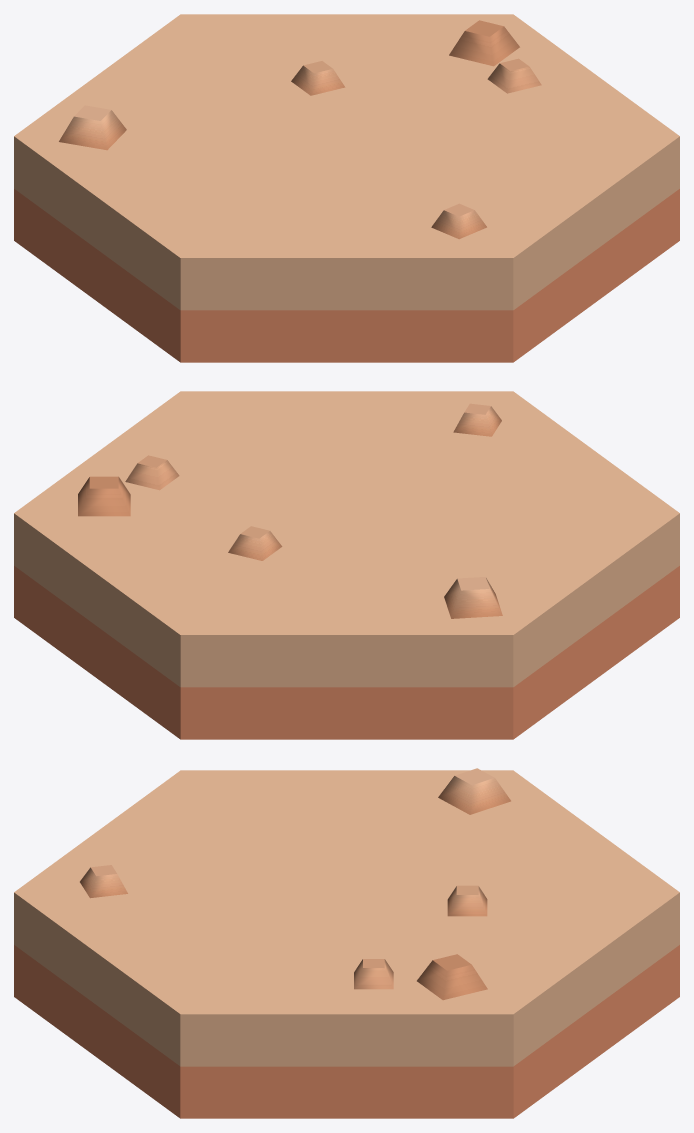
Rendered from sand-rocks.glb.
3 views of the same model, one above another, from view 1: azimuth 30°, elevation 25°; view 2: azimuth 150°, elevation 25°; view 3: azimuth 270°, elevation 25° (orthographic).
Parts seen in each view (by area): view 1: sand-rocks; view 2: sand-rocks; view 3: sand-rocks.
Part boxes in pixels (x1,y1,x2,y2): sand-rocks: [14, 14, 679, 362]; sand-rocks: [14, 391, 679, 739]; sand-rocks: [14, 768, 679, 1118].
Bounding box in the file's own units: 1 × 0.2434 × 1.15.
Materials: 1 (1 with a texture image).
